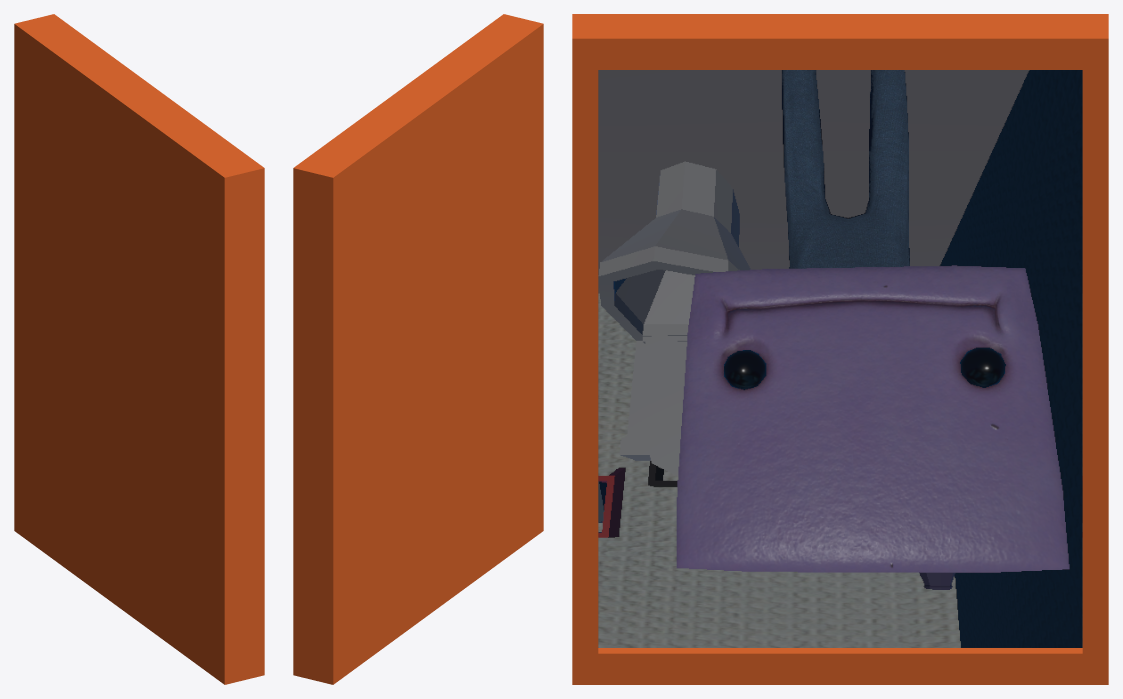
File: cuadro_1.fbx
The picture shows the model from 3 angles, left to right: view 1: azimuth 30°, elevation 25°; view 2: azimuth 150°, elevation 25°; view 3: azimuth 270°, elevation 25°; orthographic projection. The views are drawn at different scales.
Visible parts, largest first — view 1: Cube; view 2: Cube; view 3: Cube.
Part boxes in pixels (left/top/right/bottom): Cube: left=14, top=14, right=264, bottom=684; Cube: left=293, top=14, right=543, bottom=684; Cube: left=572, top=14, right=1108, bottom=684.
Size of the model in its own units: 58.86 by 714 by 537.
